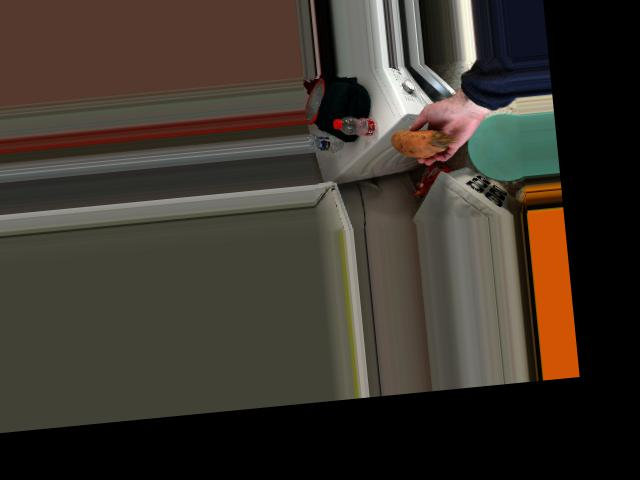sweet_potato: (377, 127, 447, 159)
